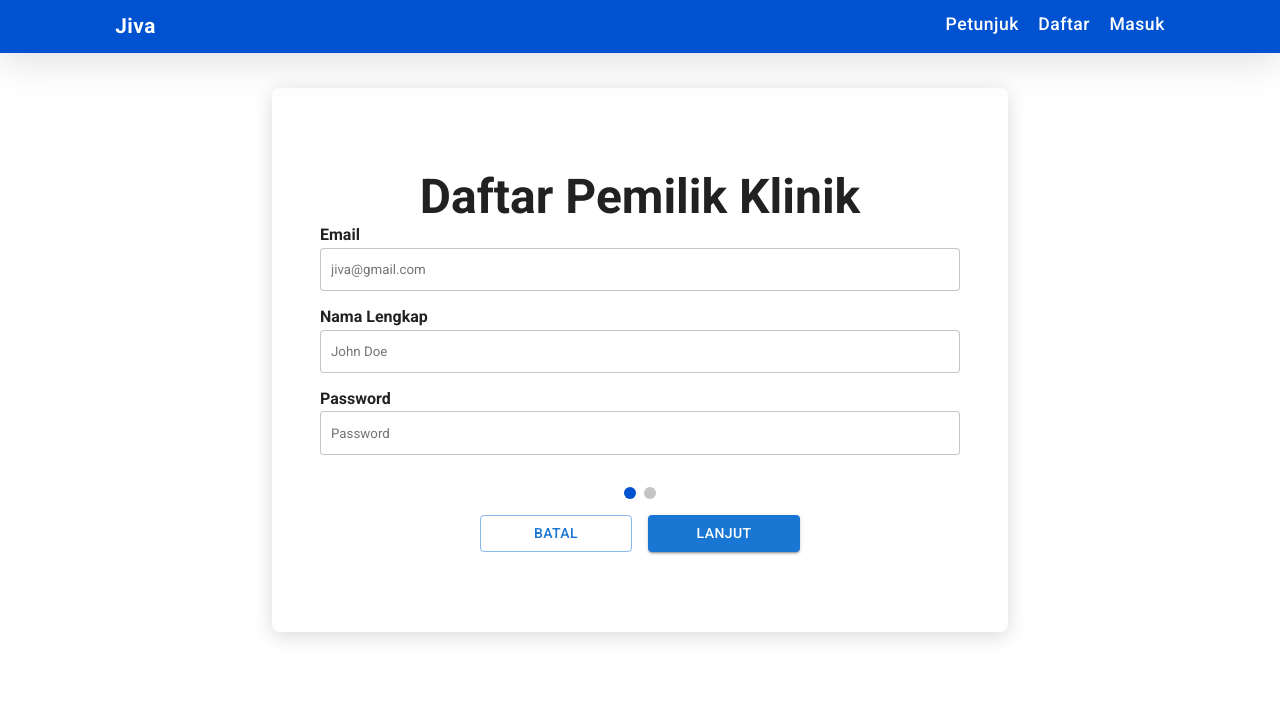
Test: <Register/> › Renders second page correctly › renders owner register form
This screenshot has width=1280, height=720.
In the field labelled "Email": x=640, y=270 [320,248,960,291], type "dummy@email.com"
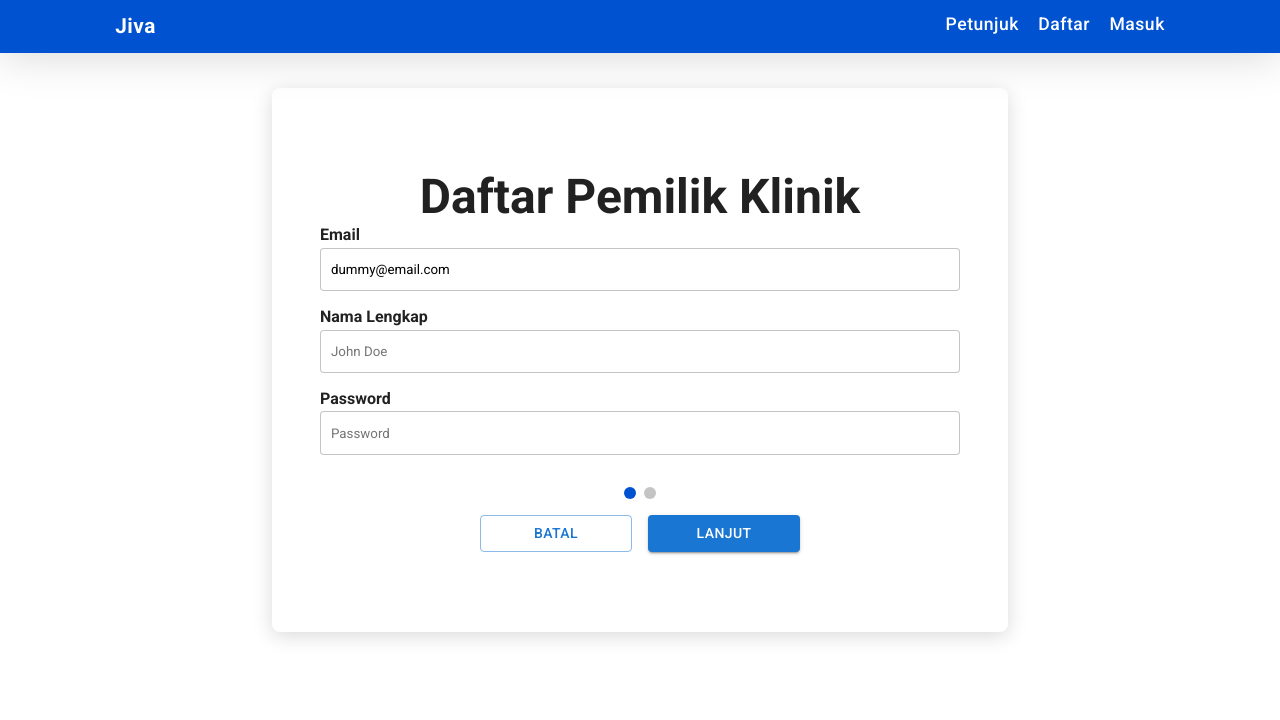
In the password field labelled "Password": x=640, y=433 [320,411,960,455], type "dummy@email.com"
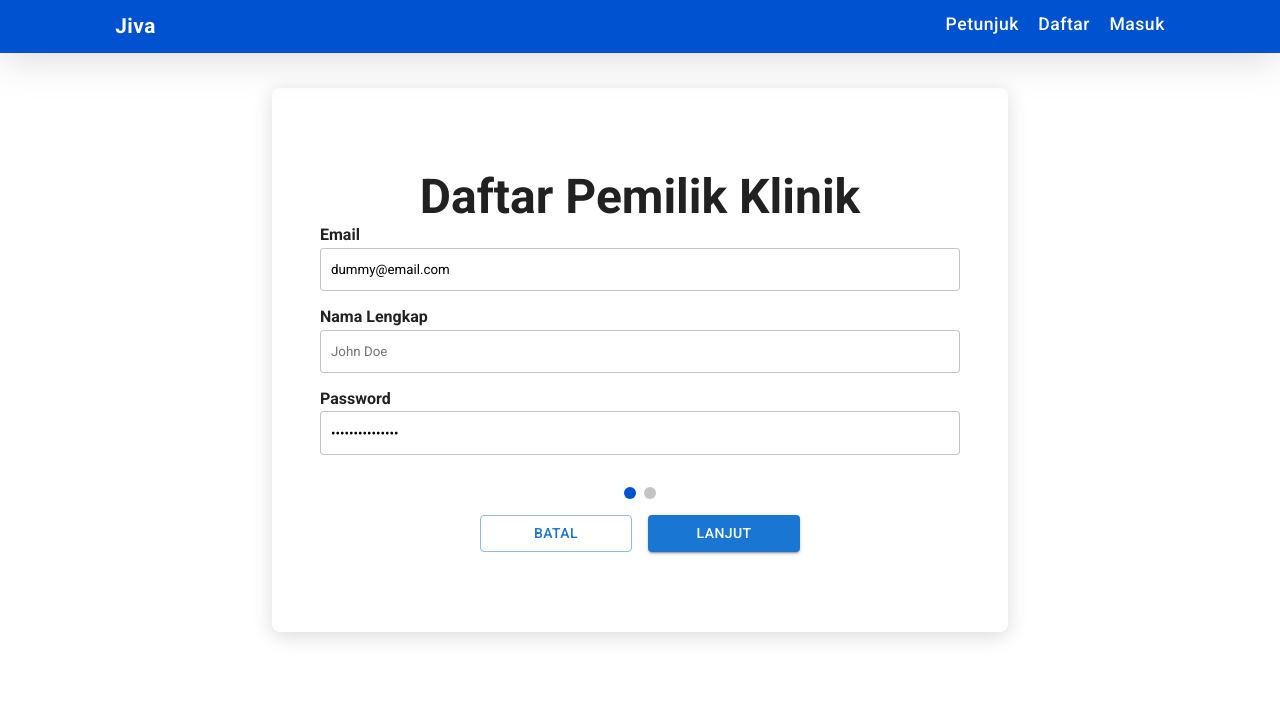
In the field labelled "Nama Lengkap": x=640, y=351 [320,330,960,373], type "dummy@email.com"
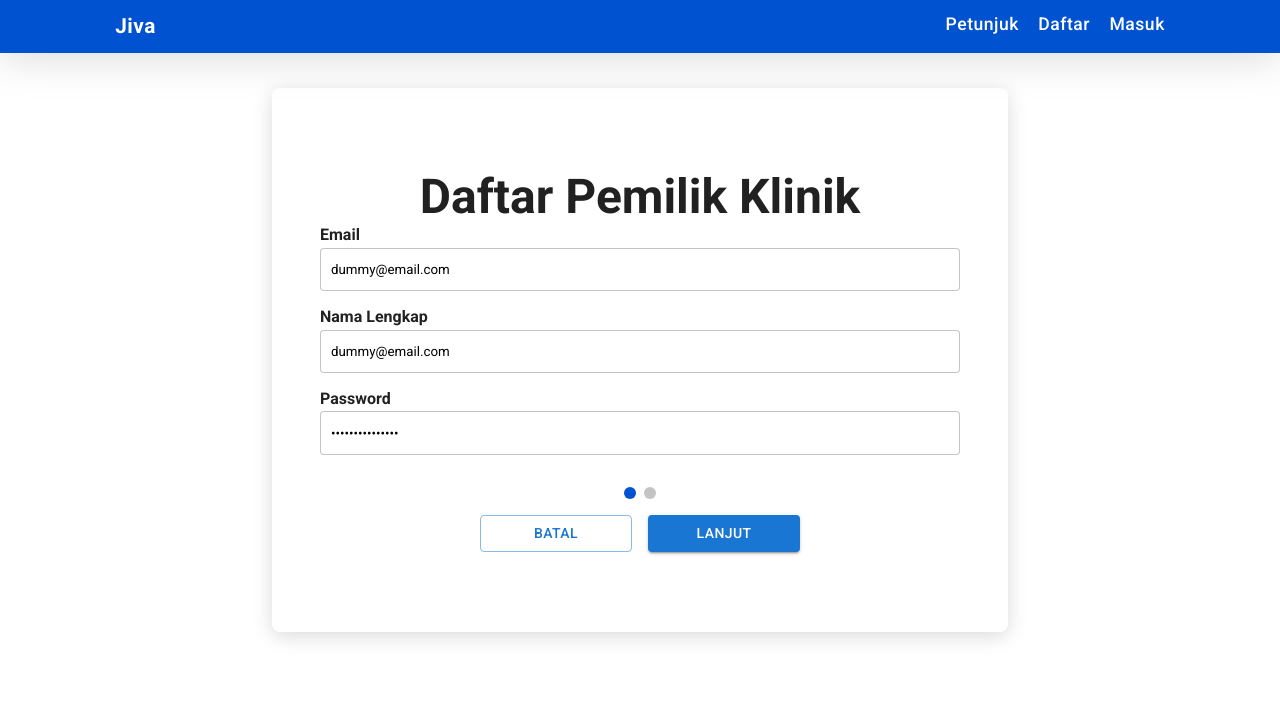
Click the button "Lanjut": x=724, y=533 [648,515,800,552]
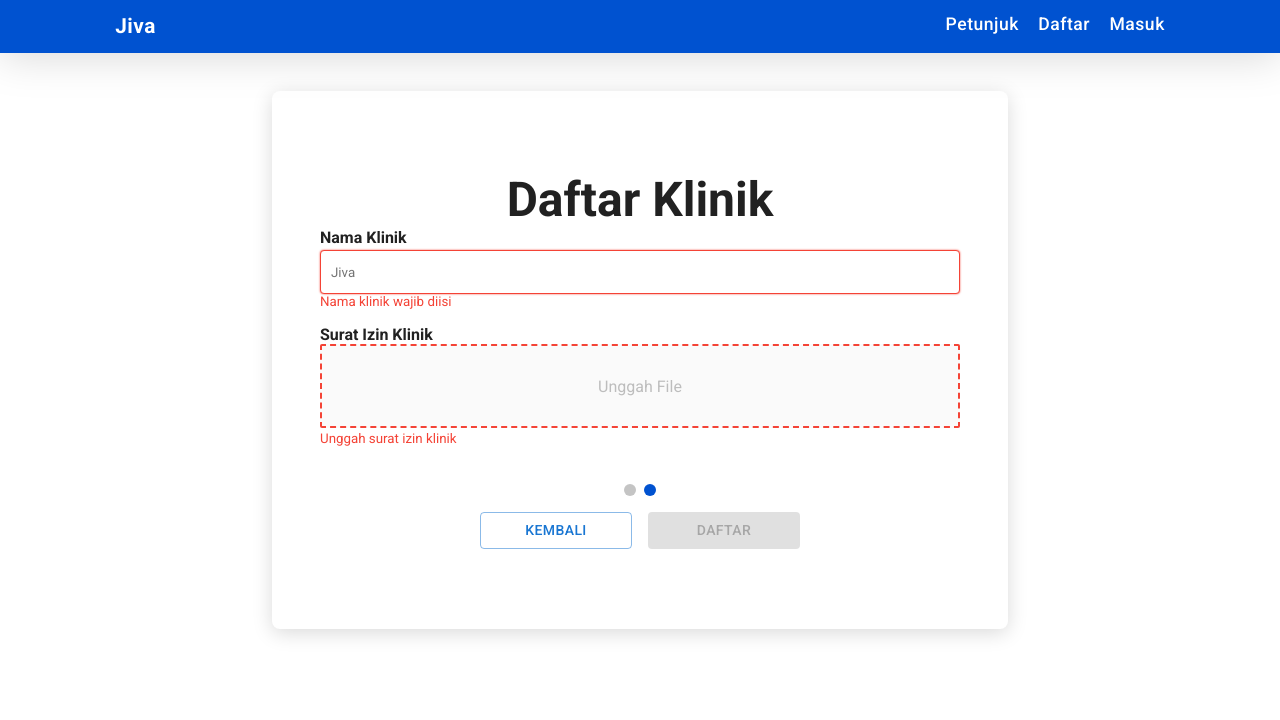
Check: the heading "Daftar Klinik" is shown, box [507,171,773,228]
Check: the text "Surat Izin Klinik" is shown, box [320,325,433,344]
Check: the field with placeholder "Jiva" is shown, box [320,250,960,294]
